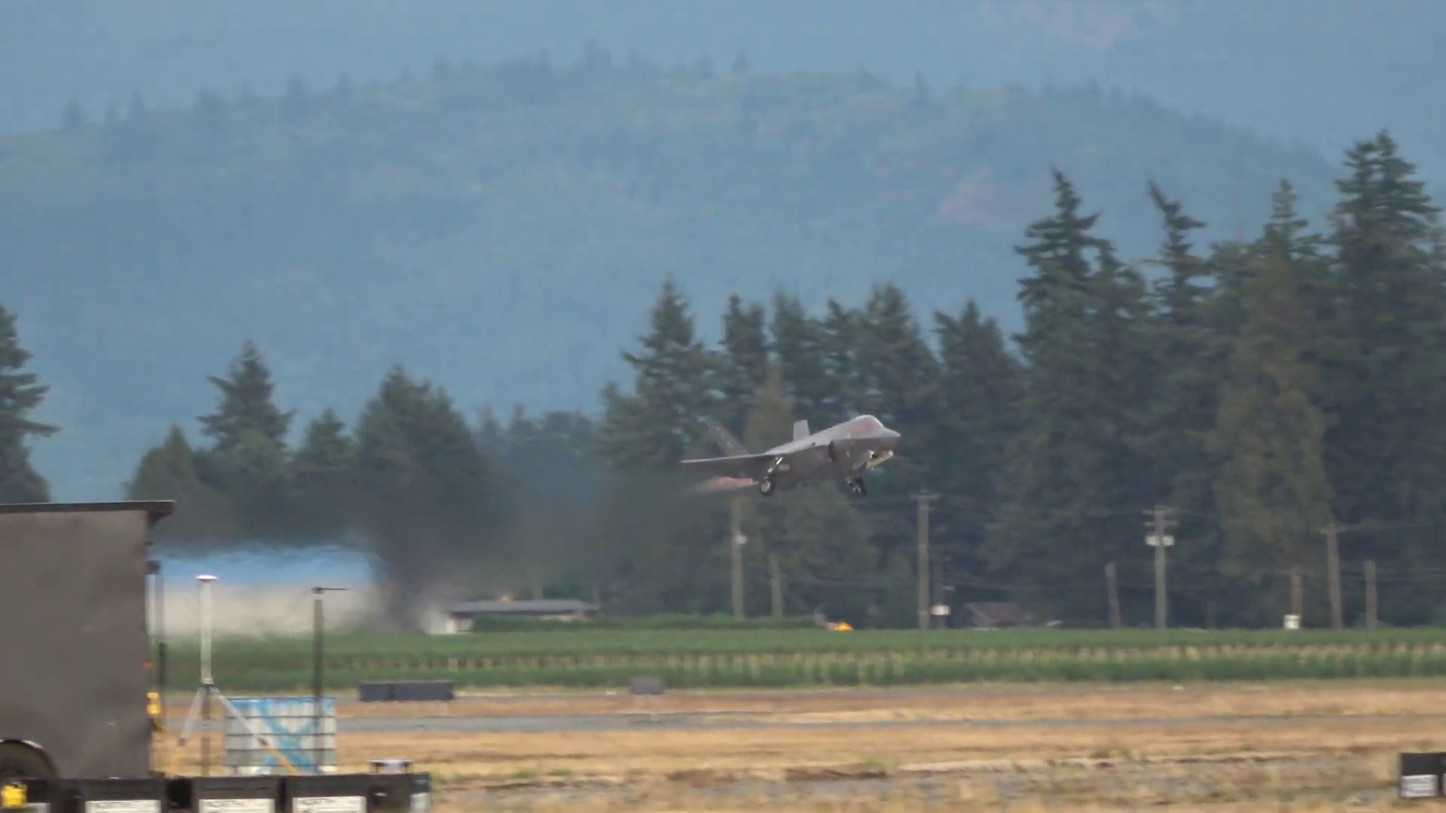F35: (672, 392, 916, 509)
